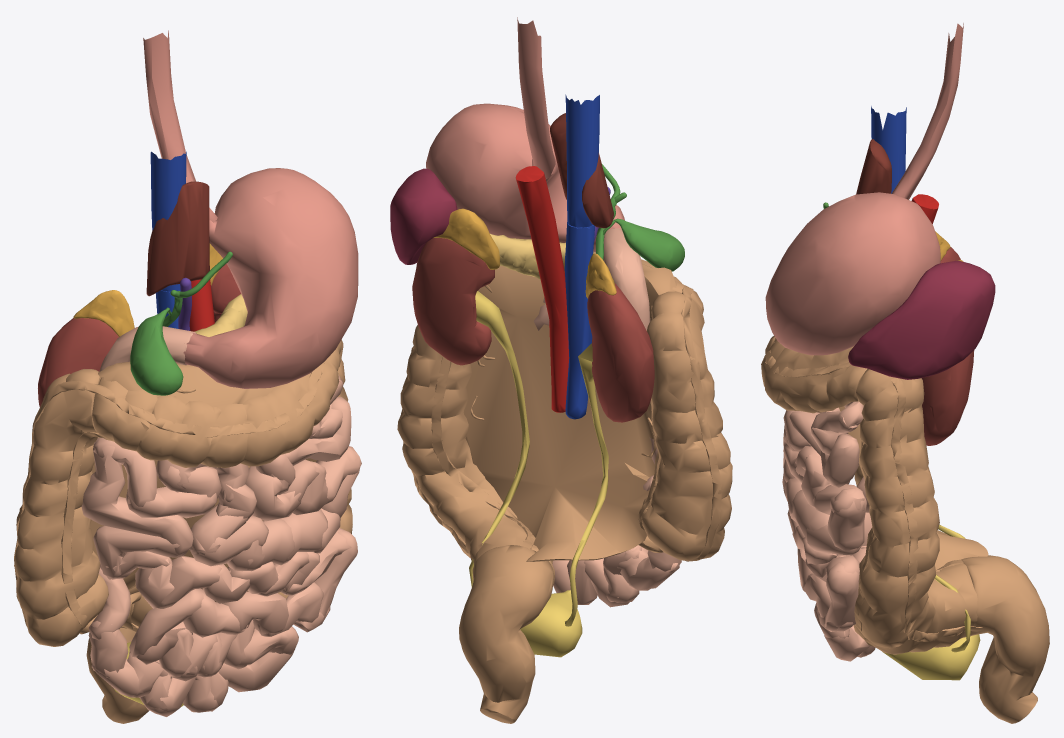
File: bauch3d.glb
3 renders of one model, left to right at view 1: azimuth 30°, elevation 25°; view 2: azimuth 150°, elevation 25°; view 3: azimuth 270°, elevation 25°, orthographic. The views are drawn at different scales.
Visible parts, largest first — view 1: Stomach, Distal part of jejunum (×10), Ascending colon, Transverse colon, Proximal part of ileum (×9), Middle part of ileum (×7), Distal part of ileum (×9), Proximal part of jejunum (×5), Caudate lobe of liver, Middle part of jejunum (×4), Transverse mesocolon, Esophagus (+13 smaller); view 2: Transverse mesocolon, Ascending colon, Descending colon, Rectum, Stomach, Inferior vena cava (×2), Left kidney, Right kidney, Abdominal aorta, Spleen, Esophagus, Distal part of ileum (×4) (+11 smaller); view 3: Descending colon, Stomach, Spleen, Rectum, Middle part of jejunum (×5), Transverse colon, Proximal part of jejunum (×4), Taenia omentalis, Left kidney, Esophagus, Proximal part of ileum (×2), Urinary bladder (+6 smaller).
Boxes of the visible parts, x1,y1,x2,y2 form: Stomach: (183,168,358,388); Distal part of jejunum (×10): (81,437,294,571); Ascending colon: (14,369,108,646); Transverse colon: (92,341,341,468); Proximal part of ileum (×9): (93,525,357,620); Middle part of ileum (×7): (129,582,323,681); Distal part of ileum (×9): (88,620,298,716); Proximal part of jejunum (×5): (245,396,351,521); Caudate lobe of liver: (146,181,209,296); Middle part of jejunum (×4): (279,446,361,561); Transverse mesocolon: (90,361,274,601); Esophagus: (143,30,217,222); Transverse mesocolon: (464,251,676,561); Ascending colon: (642,291,732,561); Descending colon: (397,325,554,584); Rectum: (459,545,554,723); Stomach: (426,103,624,252); Inferior vena cava (×2): (564,94,599,419); Left kidney: (412,238,494,365); Right kidney: (587,283,654,422); Abdominal aorta: (515,166,569,412); Spleen: (390,168,457,264); Esophagus: (517,17,555,179); Distal part of ileum (×4): (567,557,679,607); Descending colon: (853,369,979,654); Stomach: (765,192,940,355); Spleen: (848,260,995,379); Rectum: (961,555,1049,723); Middle part of jejunum (×5): (790,452,866,555); Transverse colon: (761,336,867,413); Proximal part of jejunum (×4): (783,410,859,487); Taenia omentalis: (764,336,983,641); Left kidney: (921,350,974,445); Esophagus: (891,23,963,199); Proximal part of ileum (×2): (805,555,859,631); Urinary bladder: (883,634,980,680).
Bounding box in the file's own units: 0.245 × 0.5022 × 0.1865.
